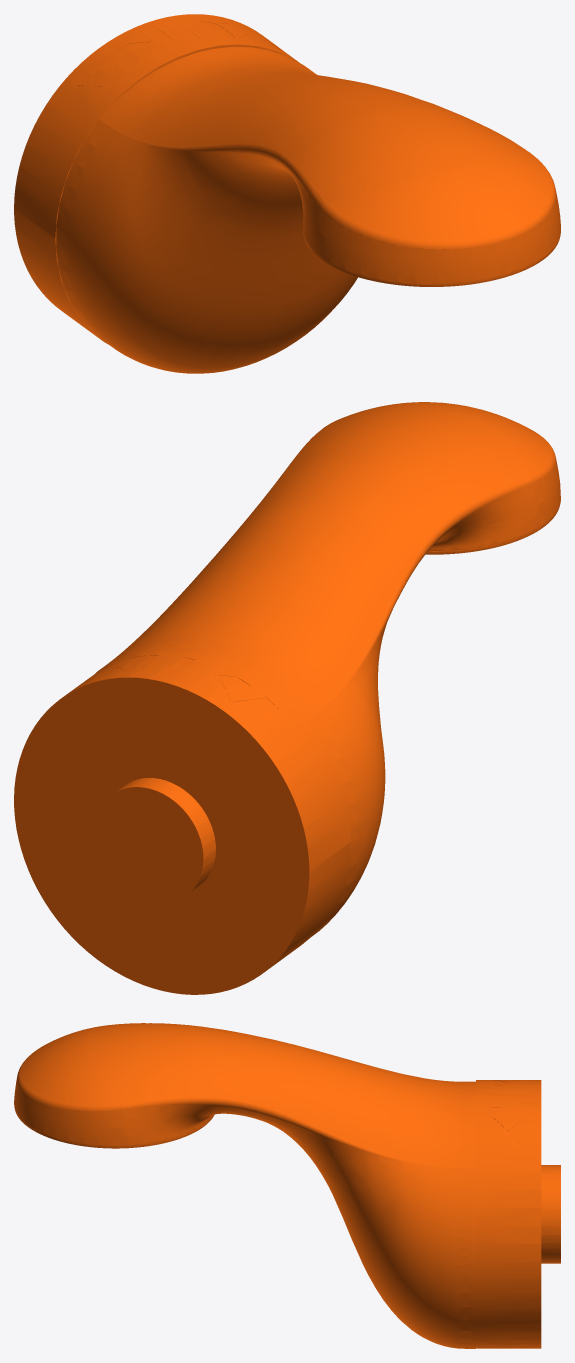
3 views of the same model, one above another, from view 1: azimuth 30°, elevation 25°; view 2: azimuth 150°, elevation 25°; view 3: azimuth 270°, elevation 25° (orthographic). The views are drawn at different scales.
Visible parts, largest first — view 1: link_5; view 2: link_5; view 3: link_5.
Boxes of the visible parts, x1,y1,x2,y2 form: link_5: (14,14,560,373); link_5: (14,402,560,994); link_5: (14,1023,560,1348).
Size of the model in its own units: 0.1362 by 0.1671 by 0.277.
